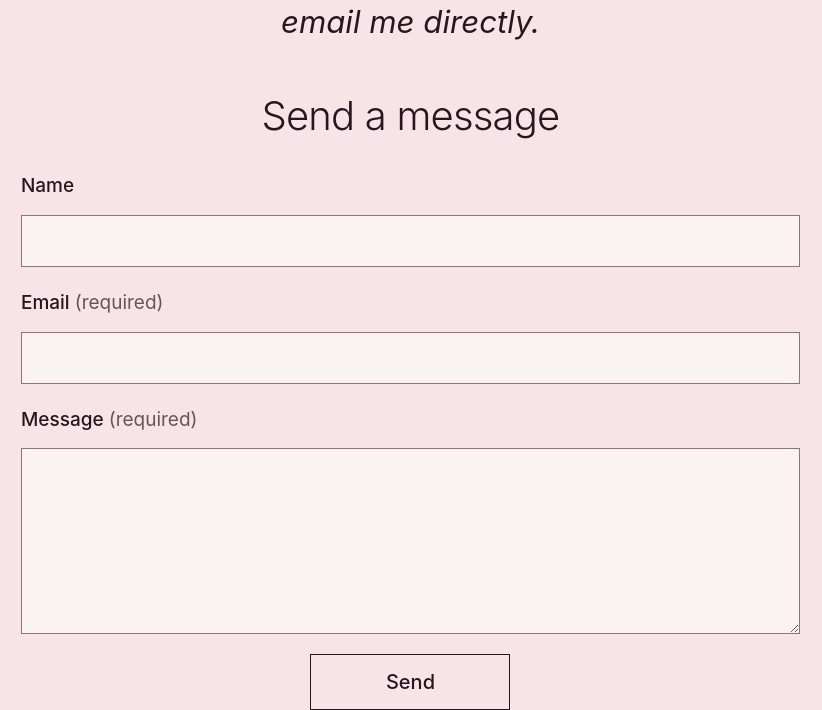
Test: ContactPage › rejects an email that misses a part and accepts a whole one
Earlier steps of the test are not shown.
Later steps or results of the test are not shown.
(page scrolled)
In the field with id "contact-email": [410, 358] box top-left (21, 332), bottom-right (800, 384), type "rachel@"
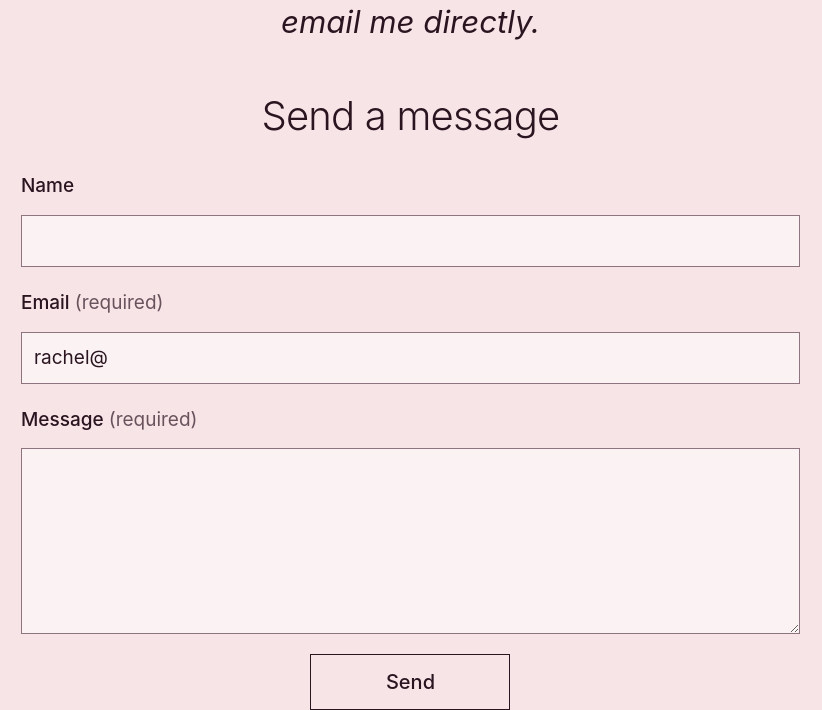
In the text box with id "contact-message": [410, 541] box top-left (21, 448), bottom-right (800, 634), type "Hello Rachel"
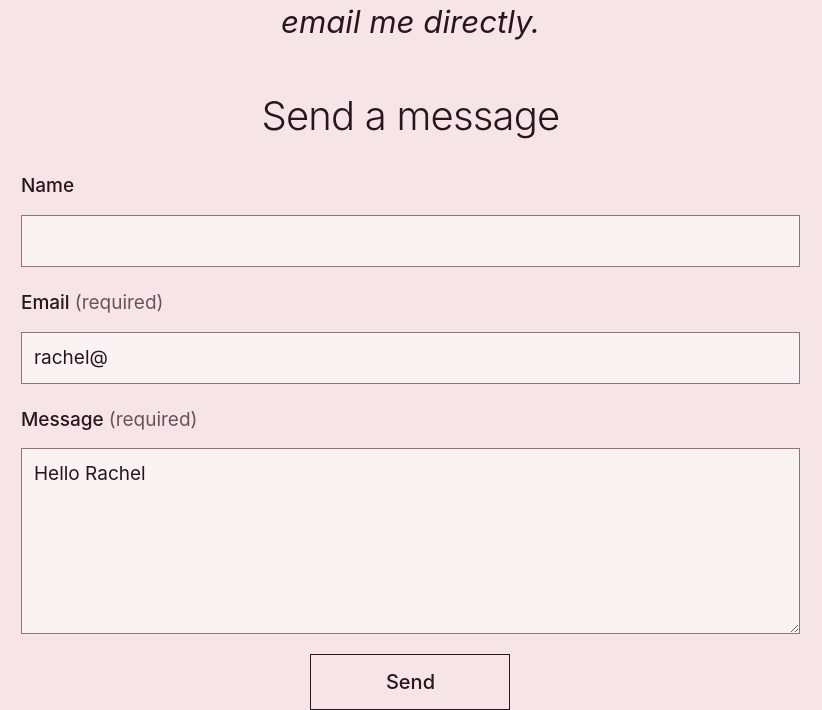
Click the button "Send": [410, 682] box top-left (310, 654), bottom-right (510, 709)
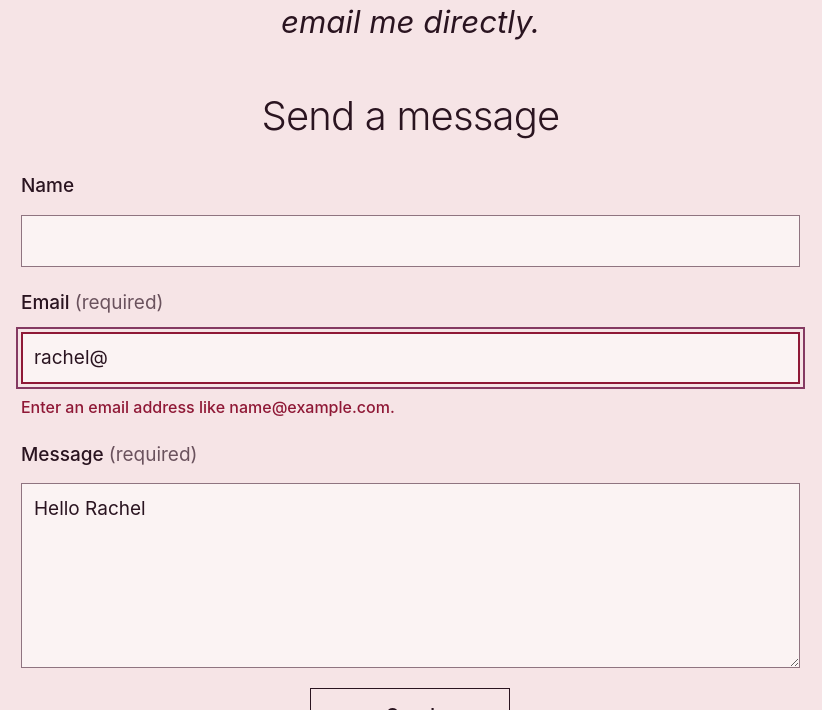
Check: the text with id "contact-email-error" reads "Enter an email address like name@example.com.", box top-left (21, 397), bottom-right (395, 417)
